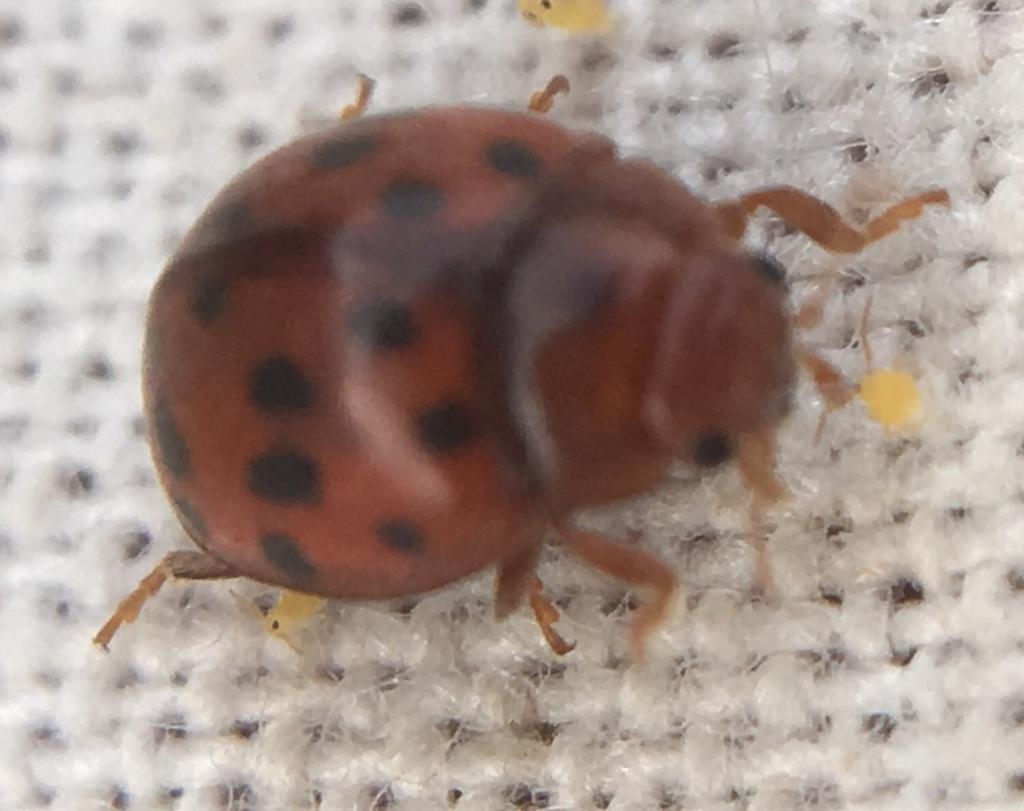ladybug: (89, 63, 959, 671)
